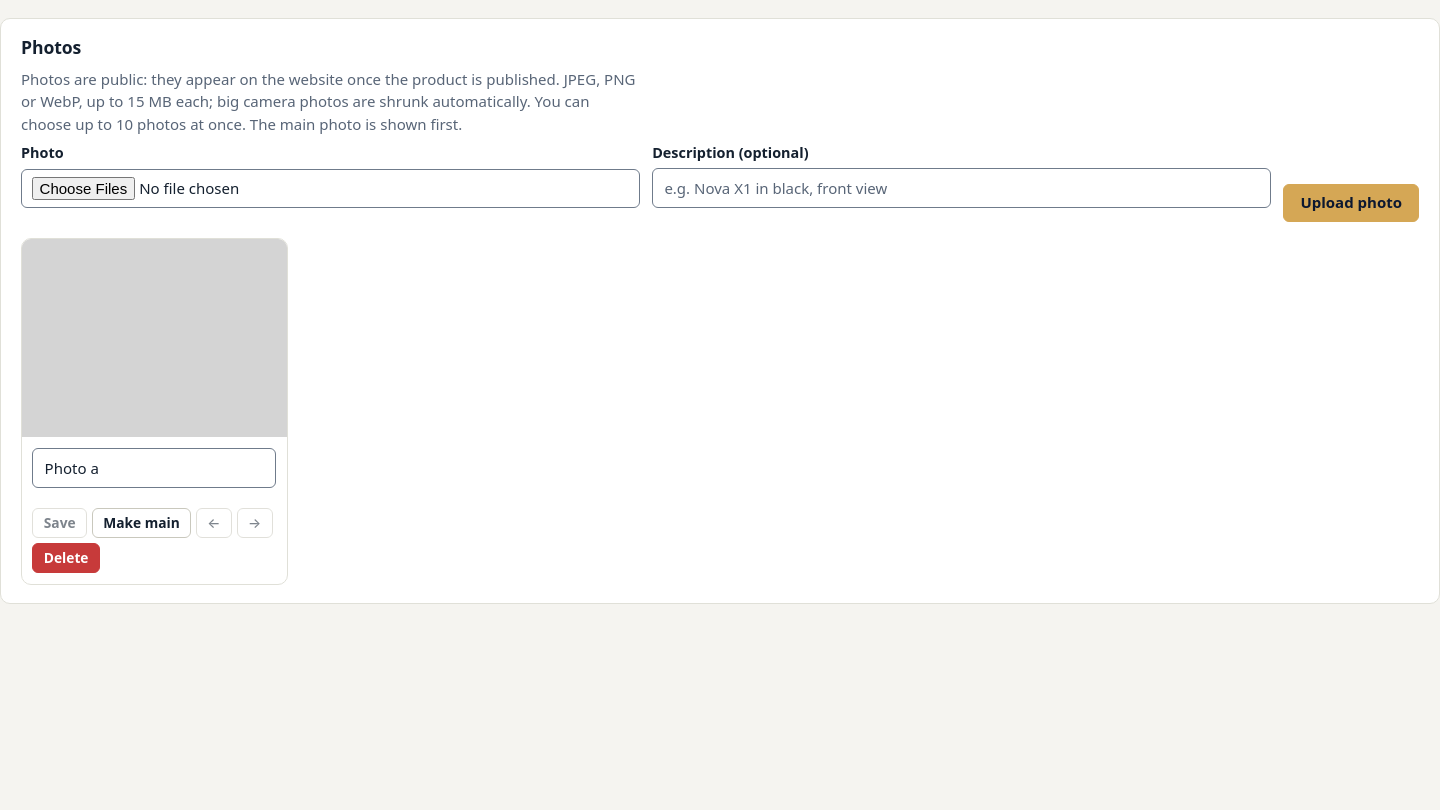
PhotosSection › deletes after confirmation; declining deletes nothing; a refused delete is shown
Click the button with aria-label "Delete photo 1" at (66, 558), box x1=32 y1=543 x2=100 y2=573
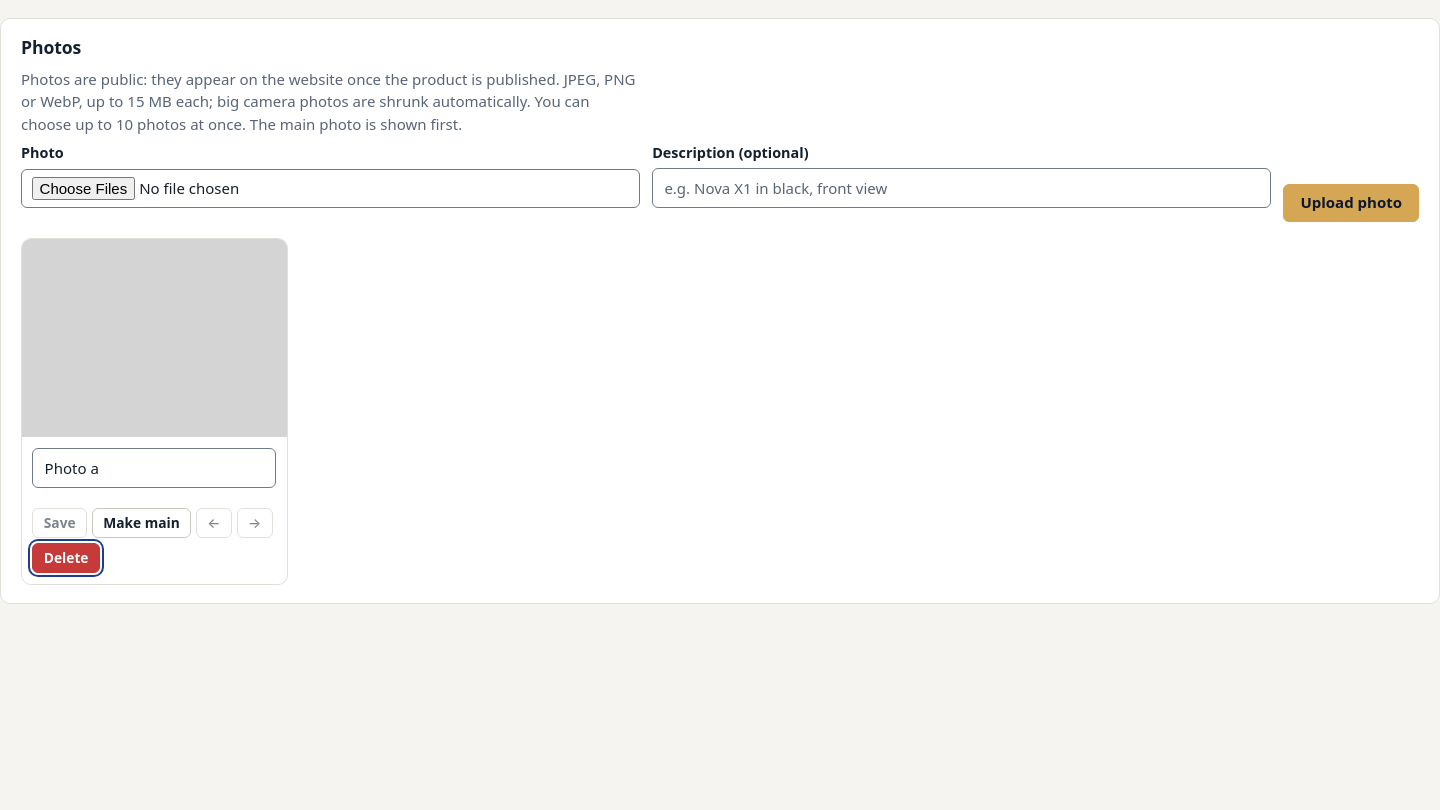
Click the button with aria-label "Delete photo 1" at (66, 558), box x1=32 y1=543 x2=100 y2=573
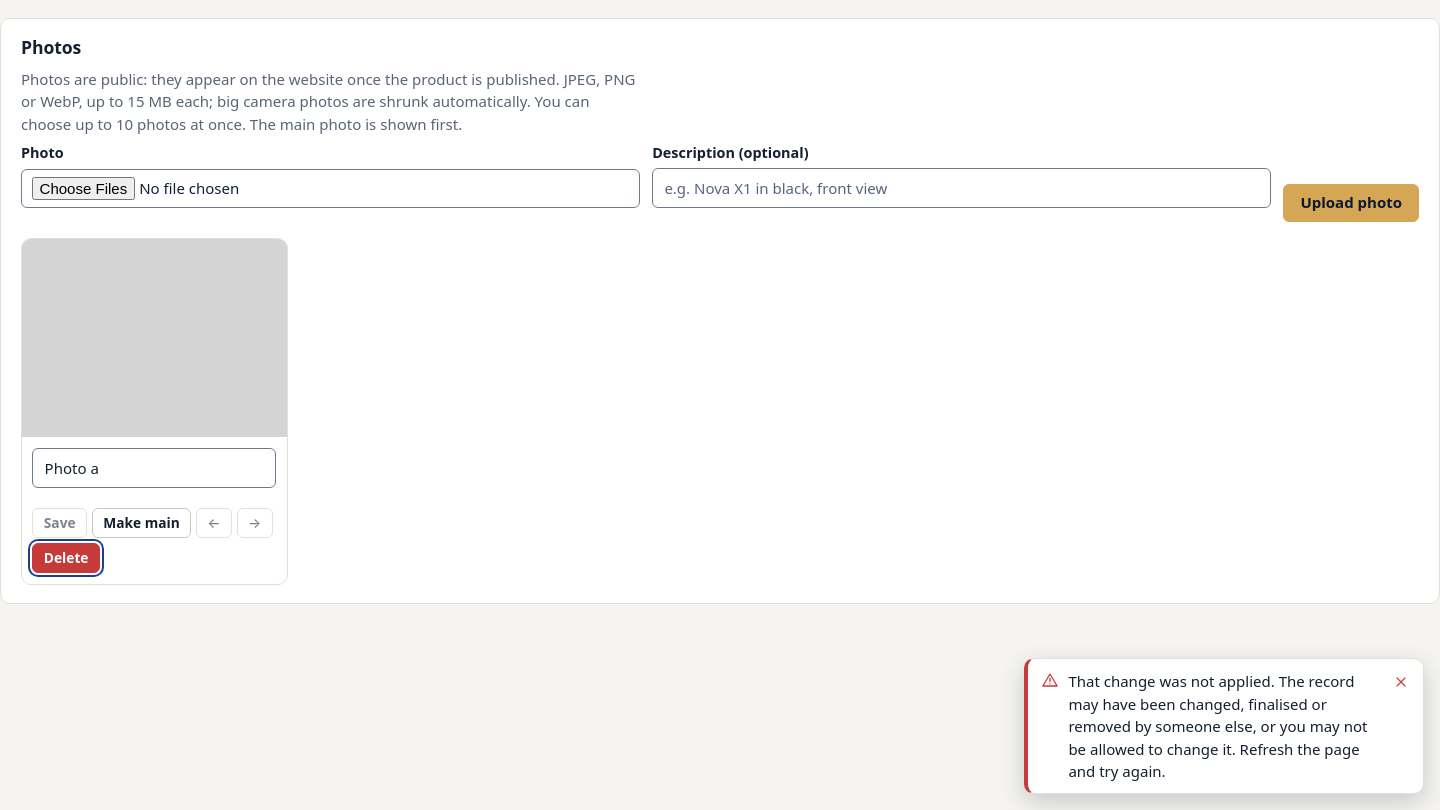
Expected: the text "That change was not applied. The record may have been changed, finalised or removed by someone else, or you may not be a" is shown, x1=1068 y1=671 x2=1367 y2=781
Click the button with aria-label "Delete photo 1" at (66, 558), box x1=32 y1=543 x2=100 y2=573
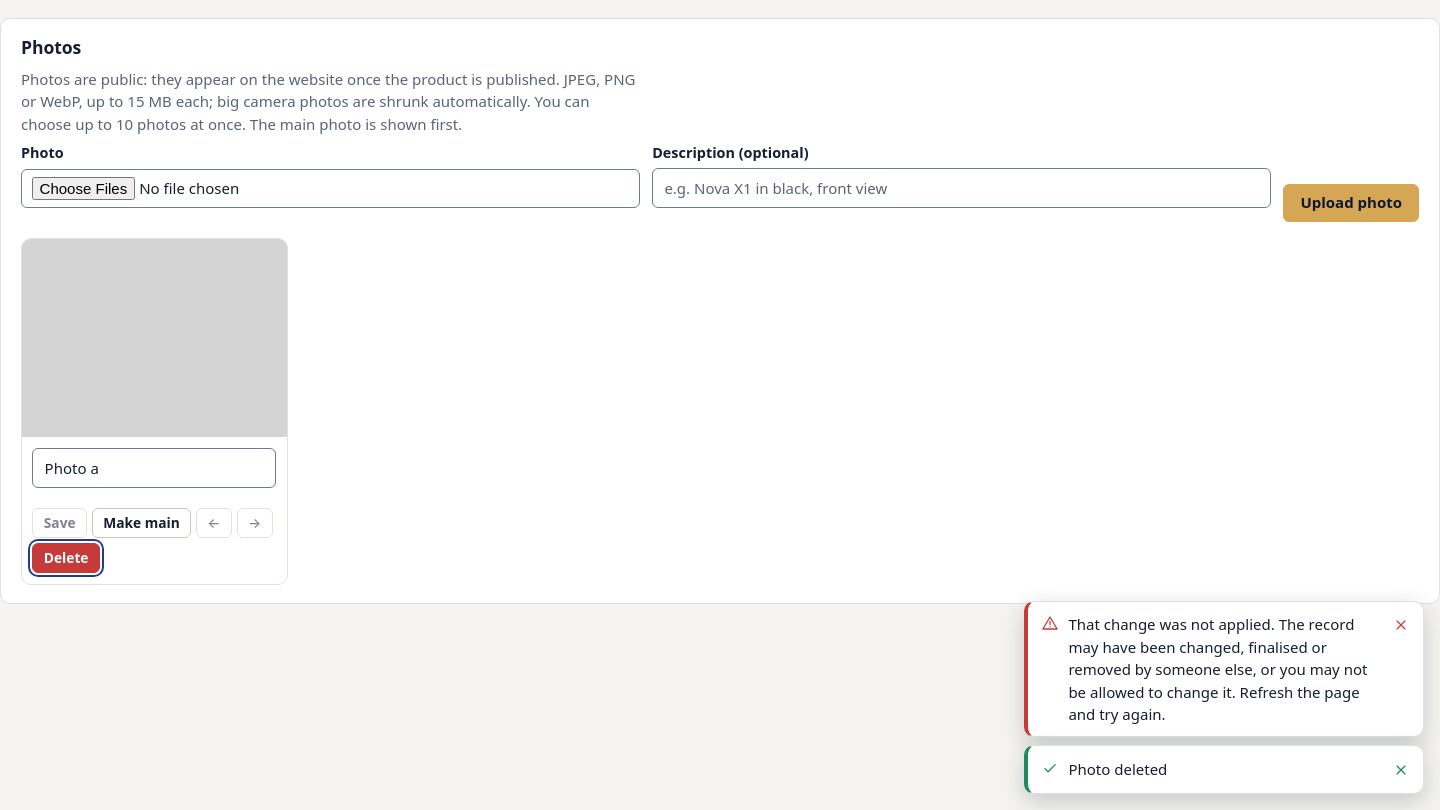
Expected: the text "Photo deleted" is shown, x1=1068 y1=759 x2=1167 y2=779
